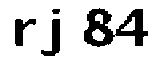4: (113, 7, 149, 49)
8: (80, 7, 112, 54)
j: (39, 1, 66, 59)
r: (9, 12, 39, 50)
